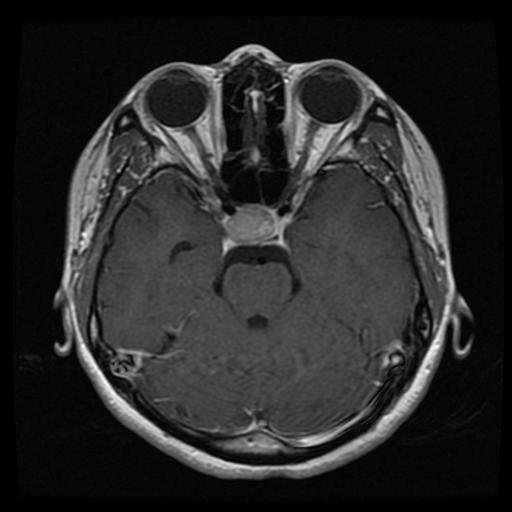Tumour-Pituitary: (213, 200, 306, 261)
